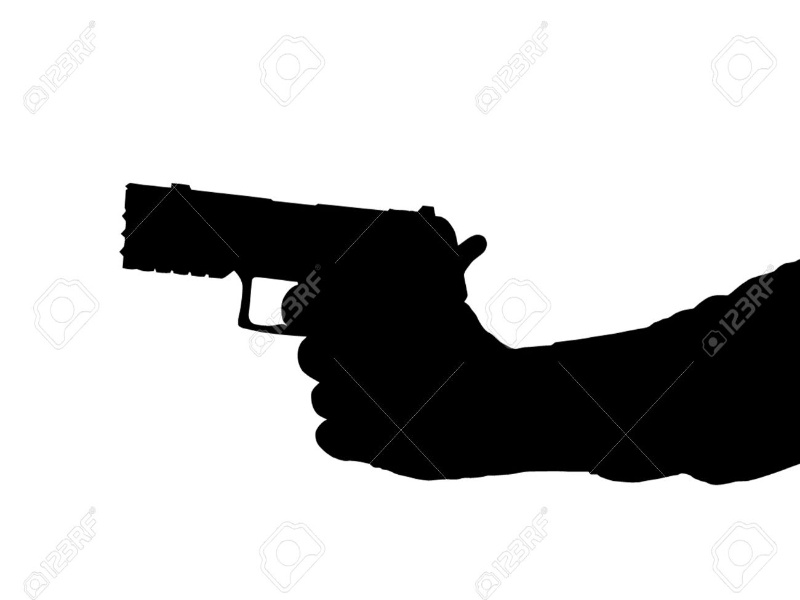gun: (114, 172, 470, 433)
